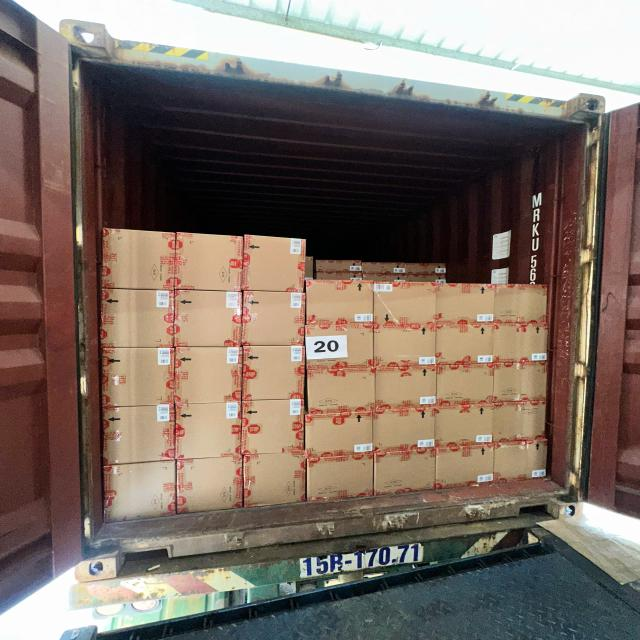Carton: (99, 291, 175, 352), (101, 347, 177, 408), (102, 232, 178, 293), (105, 462, 179, 522), (103, 406, 177, 465), (177, 234, 244, 294), (176, 289, 245, 347), (176, 346, 245, 404), (177, 459, 246, 516), (177, 403, 244, 460), (243, 400, 307, 456), (245, 346, 308, 402), (245, 290, 308, 346), (245, 238, 306, 294), (305, 365, 377, 412), (244, 455, 307, 508), (304, 324, 375, 368), (307, 457, 376, 502), (373, 447, 436, 495), (373, 280, 437, 327), (306, 412, 376, 454), (306, 282, 374, 324), (374, 326, 439, 368), (434, 282, 498, 324), (374, 407, 438, 448), (376, 367, 439, 408), (436, 444, 496, 486), (438, 324, 498, 366), (492, 399, 547, 444), (438, 404, 497, 445), (494, 282, 550, 325), (436, 364, 495, 404), (496, 440, 551, 481), (496, 362, 551, 402), (495, 323, 549, 363)
